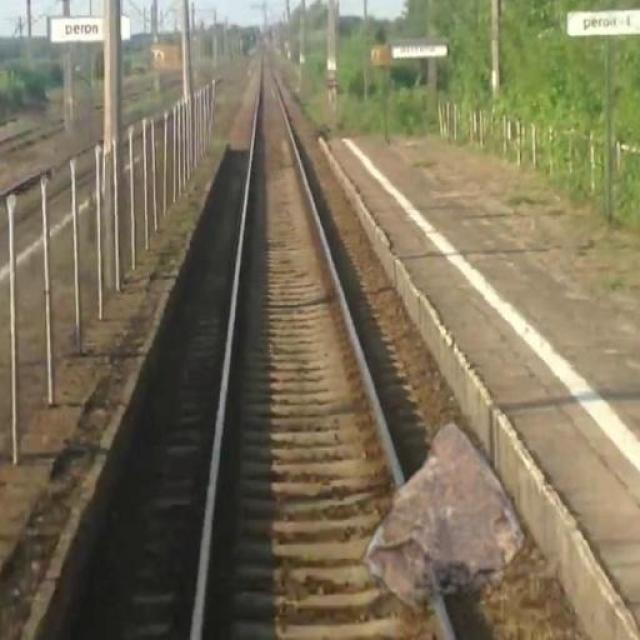Stone: (362, 422, 535, 604)
